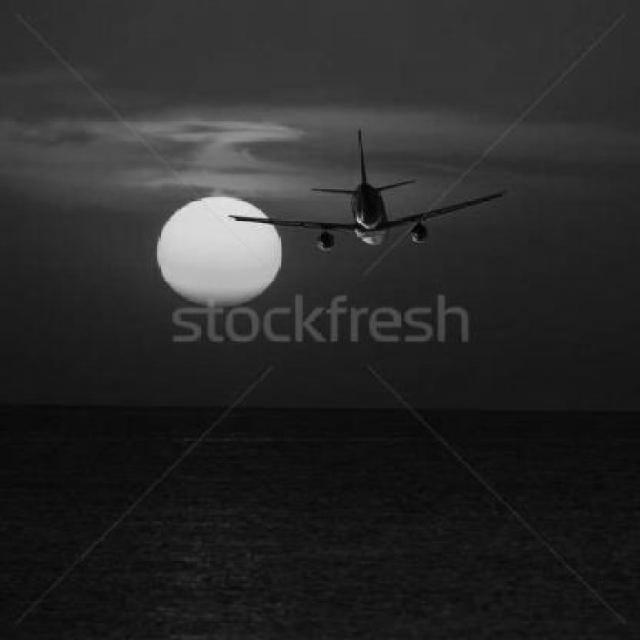aeroplane: (226, 124, 515, 265)
